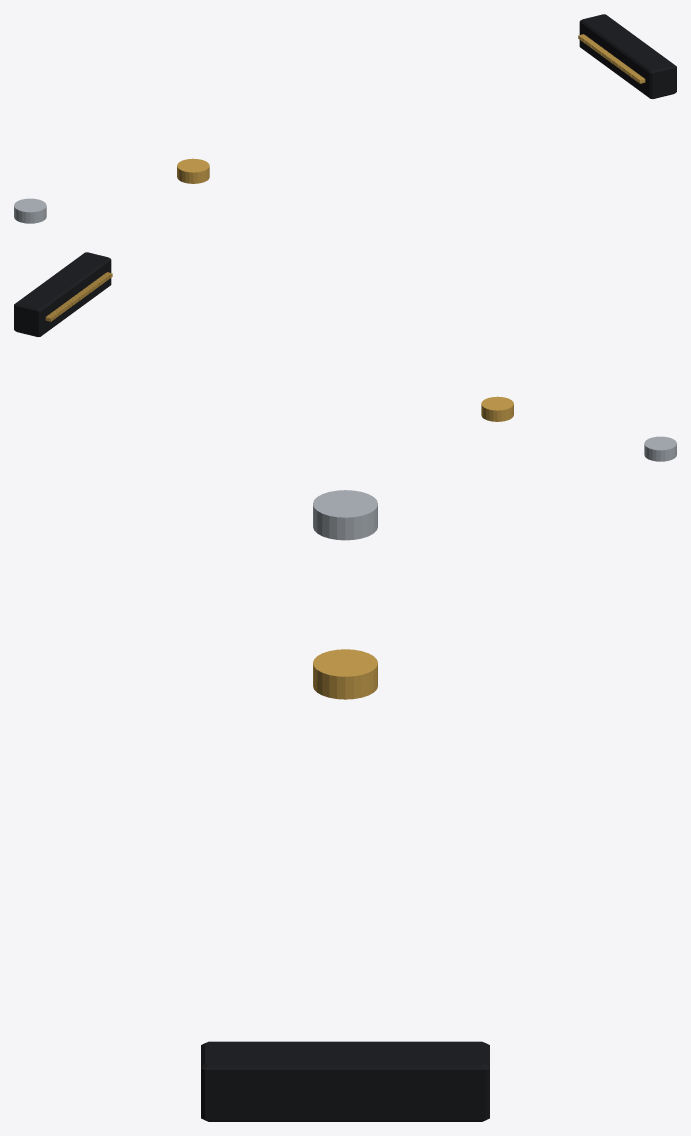
The model's file is L128_M2B_CPU.fbx.
3 renders of one model, top to bottom at view 1: azimuth 30°, elevation 25°; view 2: azimuth 150°, elevation 25°; view 3: azimuth 270°, elevation 25°, orthographic. The views are drawn at different scales.
Visible parts, largest first — view 1: M2B_CPU__Plastic, M2B_CPU__Gold, M2B_CPU__Steel; view 2: M2B_CPU__Plastic, M2B_CPU__Gold, M2B_CPU__Steel; view 3: M2B_CPU__Plastic, M2B_CPU__Steel, M2B_CPU__Gold.
Boxes of the visible parts, x1,y1,x2,y2 form: M2B_CPU__Plastic: (579, 14, 676, 98); M2B_CPU__Gold: (177, 34, 645, 183); M2B_CPU__Steel: (14, 198, 46, 223); M2B_CPU__Plastic: (14, 252, 111, 336); M2B_CPU__Gold: (45, 272, 513, 421); M2B_CPU__Steel: (644, 436, 676, 461); M2B_CPU__Plastic: (201, 1041, 489, 1121); M2B_CPU__Steel: (313, 490, 377, 540); M2B_CPU__Gold: (313, 649, 377, 699).
Bounding box in the file's own units: 115 × 5 × 23.
